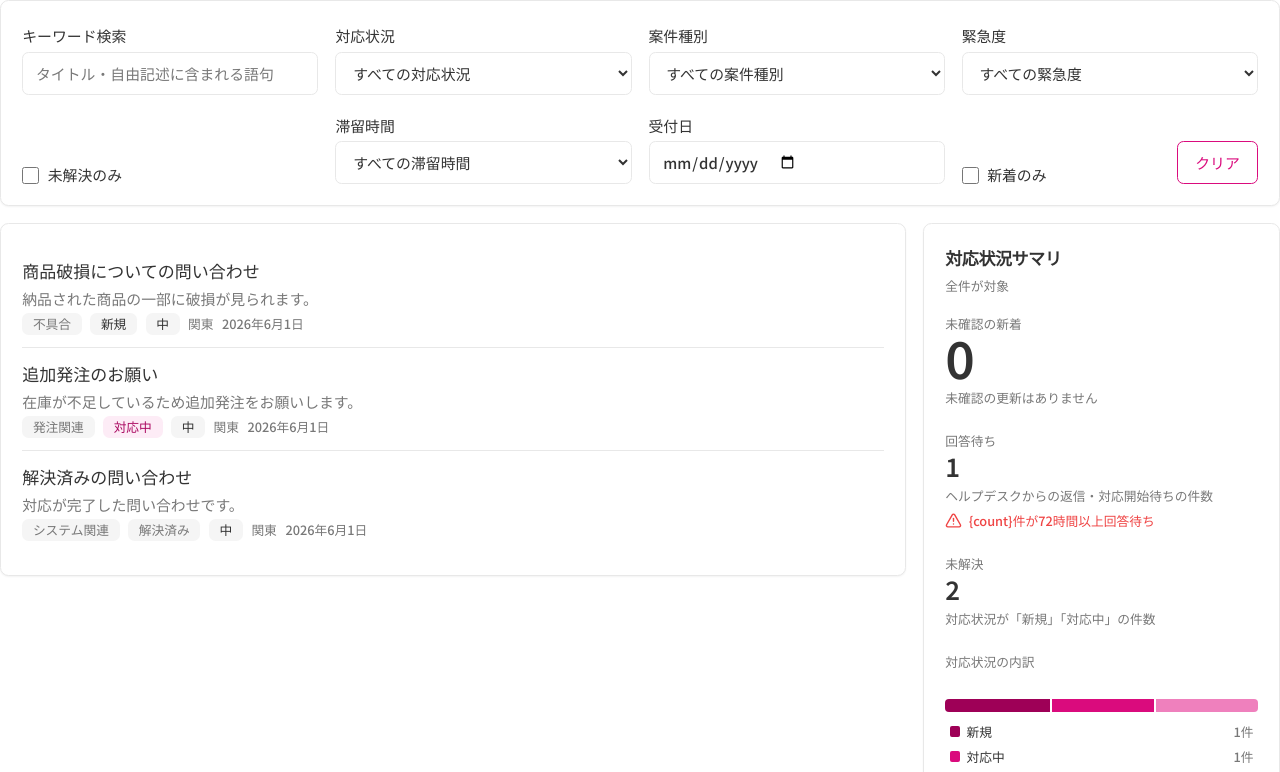
Scenario: InquiryListClient › サマリパネルの対応状況セグメントをクリックすると一覧が絞り込まれ、フィルタの選択も同期する
Click the button "対応中 1件": click(986, 757) [945,746,1258,767]
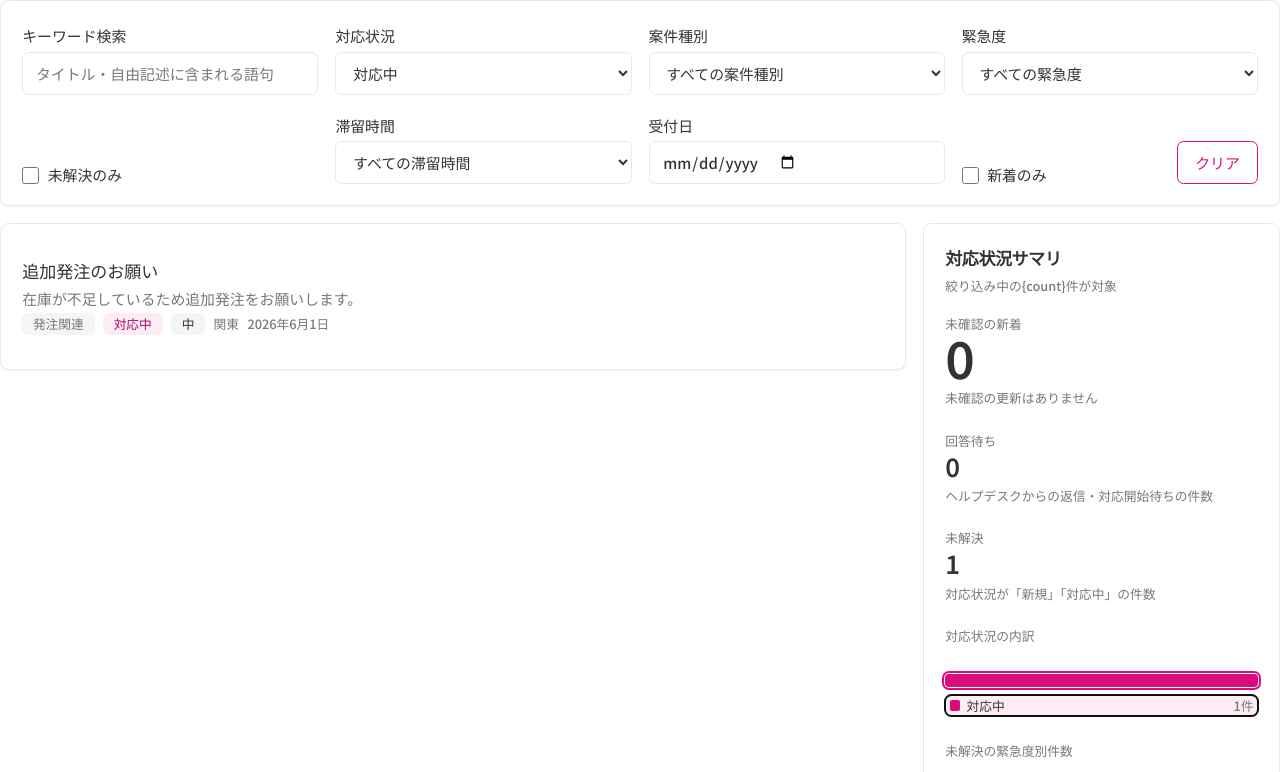
expect the link "追加発注のお願い" is shown: met, box [22,258,158,284]
expect the link "商品破損についての問い合わせ" is gone: met
expect the dropdown labelled "対応状況" shows "対応中": met, box [335,52,632,94]
